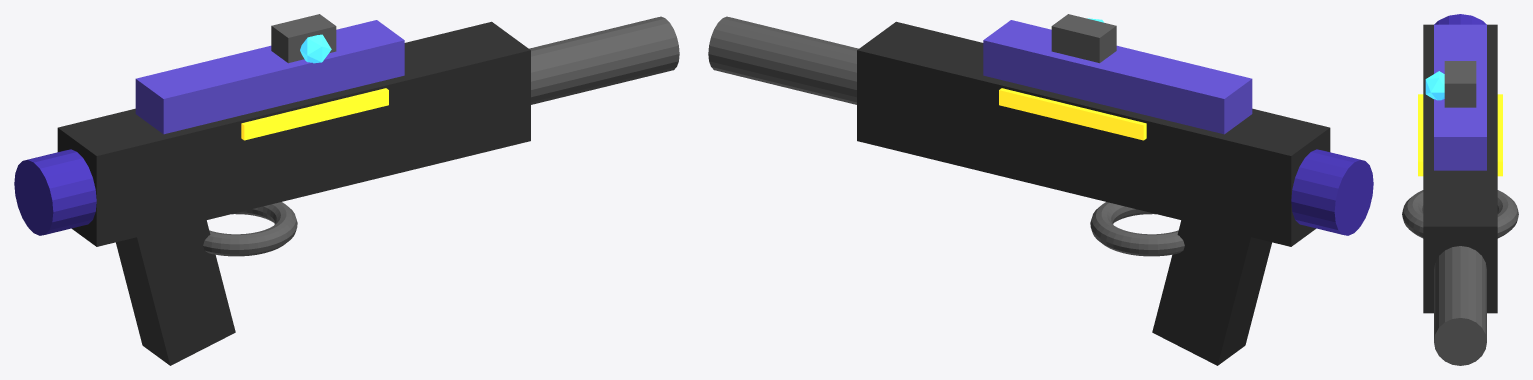
Rendered from energy-blaster.glb.
3 renders of one model, left to right at view 1: azimuth 30°, elevation 25°; view 2: azimuth 150°, elevation 25°; view 3: azimuth 270°, elevation 25°, orthographic. The views are drawn at different scales.
Bounding box in the file's own units: 1.5 × 0.6665 × 0.2519.
